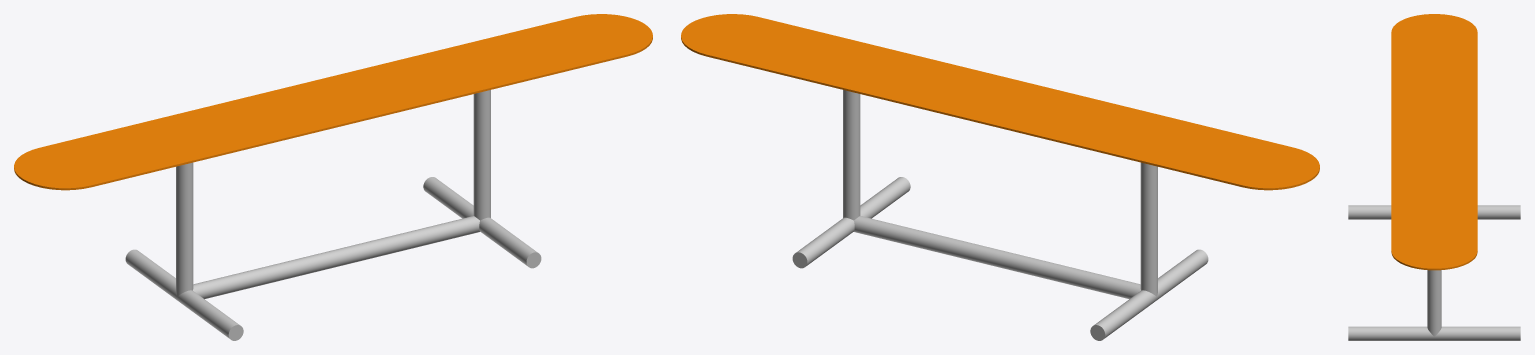
The model's file is Path Marker.dae.
3 views of the same model, side by side, from view 1: azimuth 30°, elevation 25°; view 2: azimuth 150°, elevation 25°; view 3: azimuth 270°, elevation 25° (orthographic). The views are drawn at different scales.
Visible parts, largest first — view 1: 68c48cdd19875da16d072a59 (×2); view 2: 68c48cdd19875da16d072a59 (×2); view 3: 68c48cdd19875da16d072a59 (×2).
Part boxes in pixels (x1,y1,x2,y2): 68c48cdd19875da16d072a59 (×2): (14, 14, 652, 340); 68c48cdd19875da16d072a59 (×2): (681, 14, 1319, 340); 68c48cdd19875da16d072a59 (×2): (1348, 14, 1520, 340).
Size of the model in its own units: 1.07 by 0.3048 by 0.2699.
